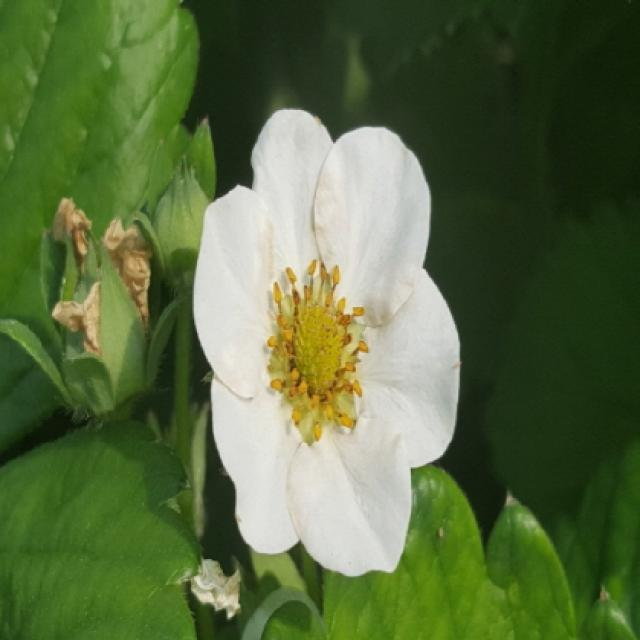Blossom Blight: (264, 256, 380, 445)
